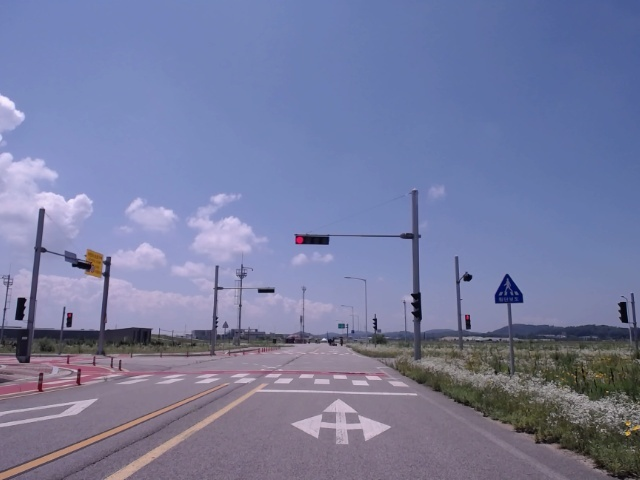red_4: (295, 236, 329, 245)
